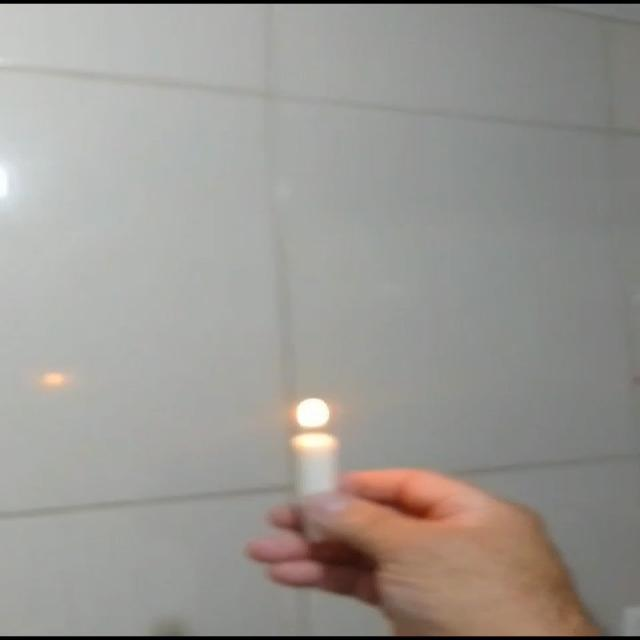fogo-ypXI: (294, 397, 332, 432)
